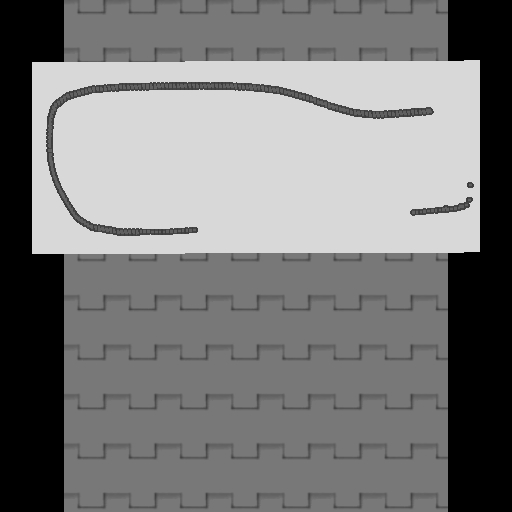Defect: (198, 204, 411, 241)
